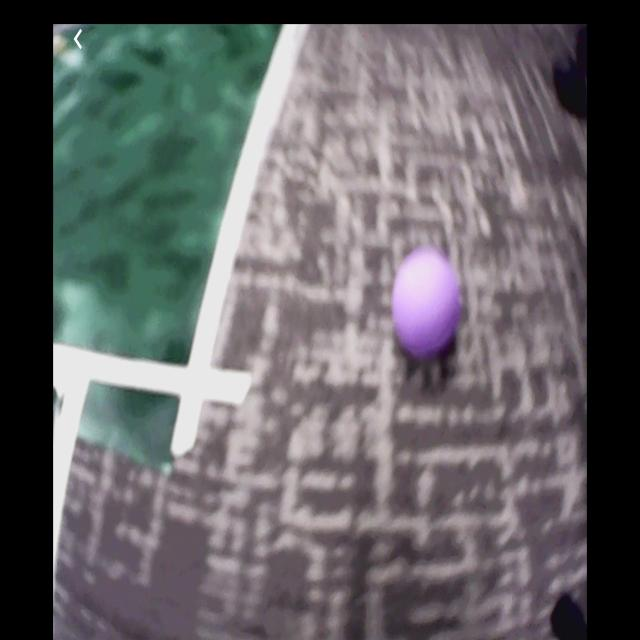ball: (393, 250, 461, 355)
